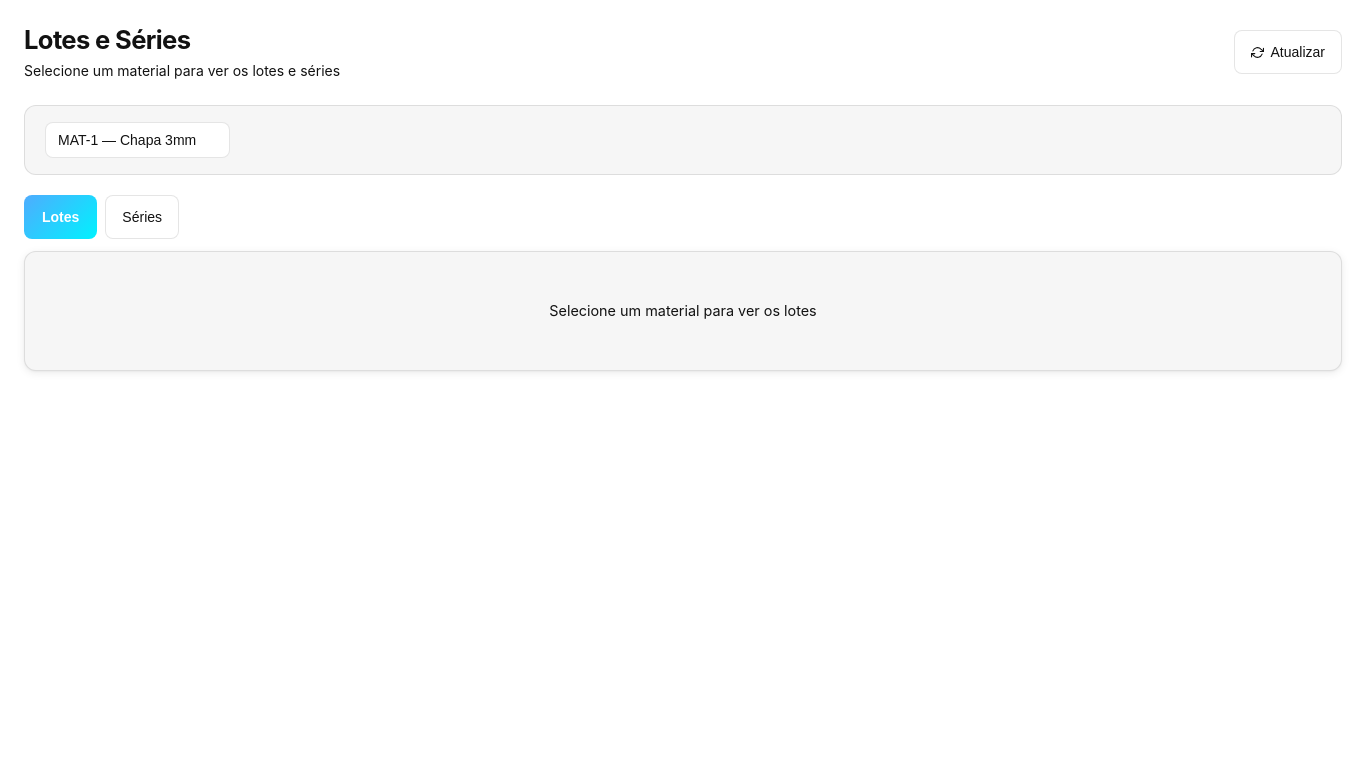
Test: LotesAlmoxarifado › lote bloqueado por falta de certificado avisa isso no modal de anexar
Select "MAT-1 — Chapa 3mm" in the dropdown with class "almox-select": (138, 140) [45,122,230,158]
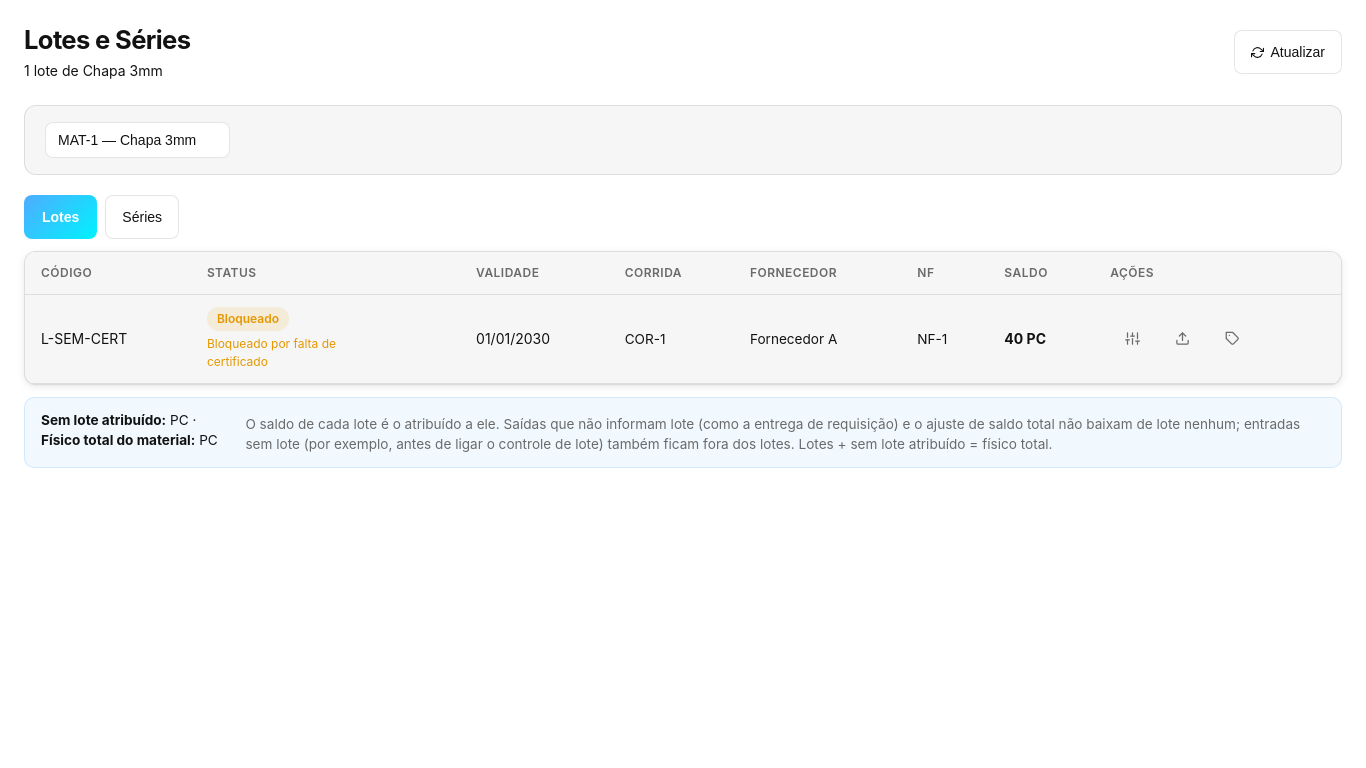
Click the 2nd button with class "almox-btn-icon": (1182, 339) [1160,317,1204,361]
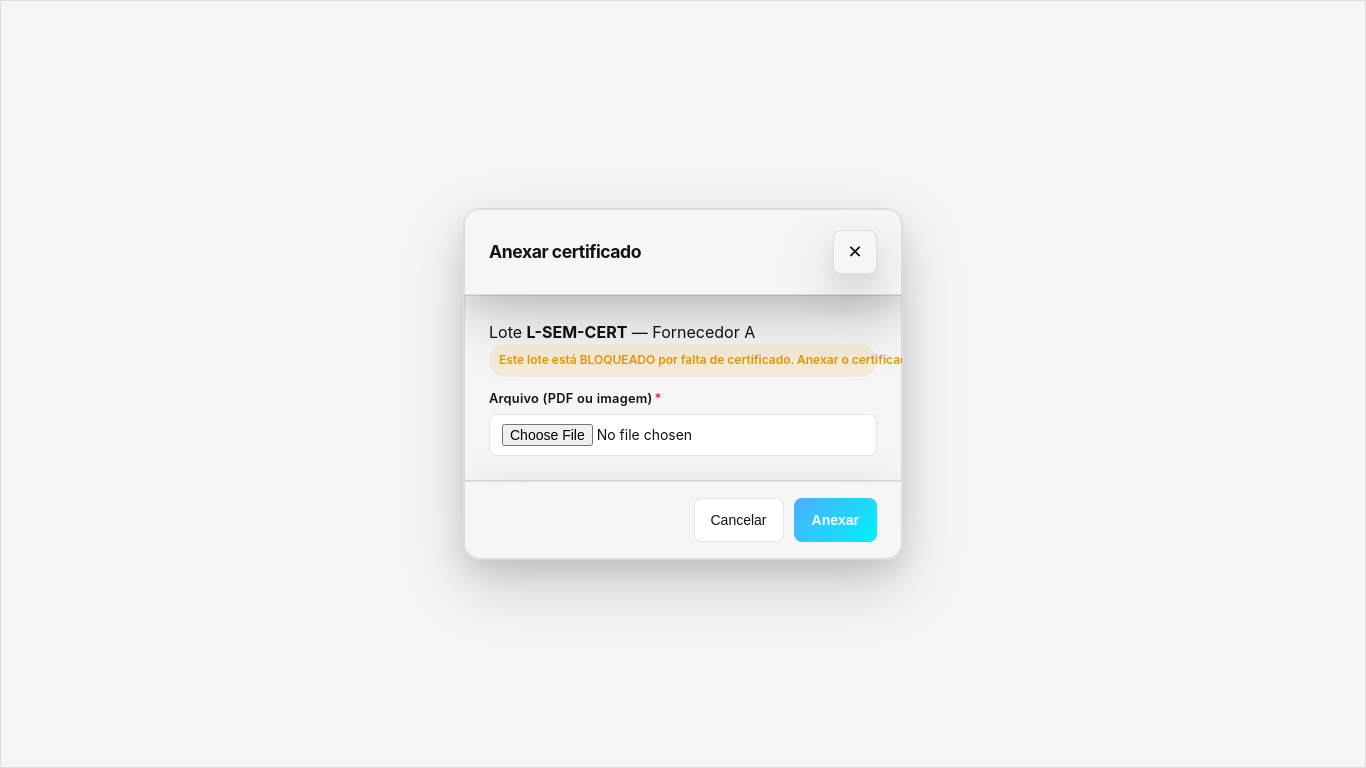
Result: the element with class "almox-modal" shows "falta de certificado" at [499,352,1179,367]
